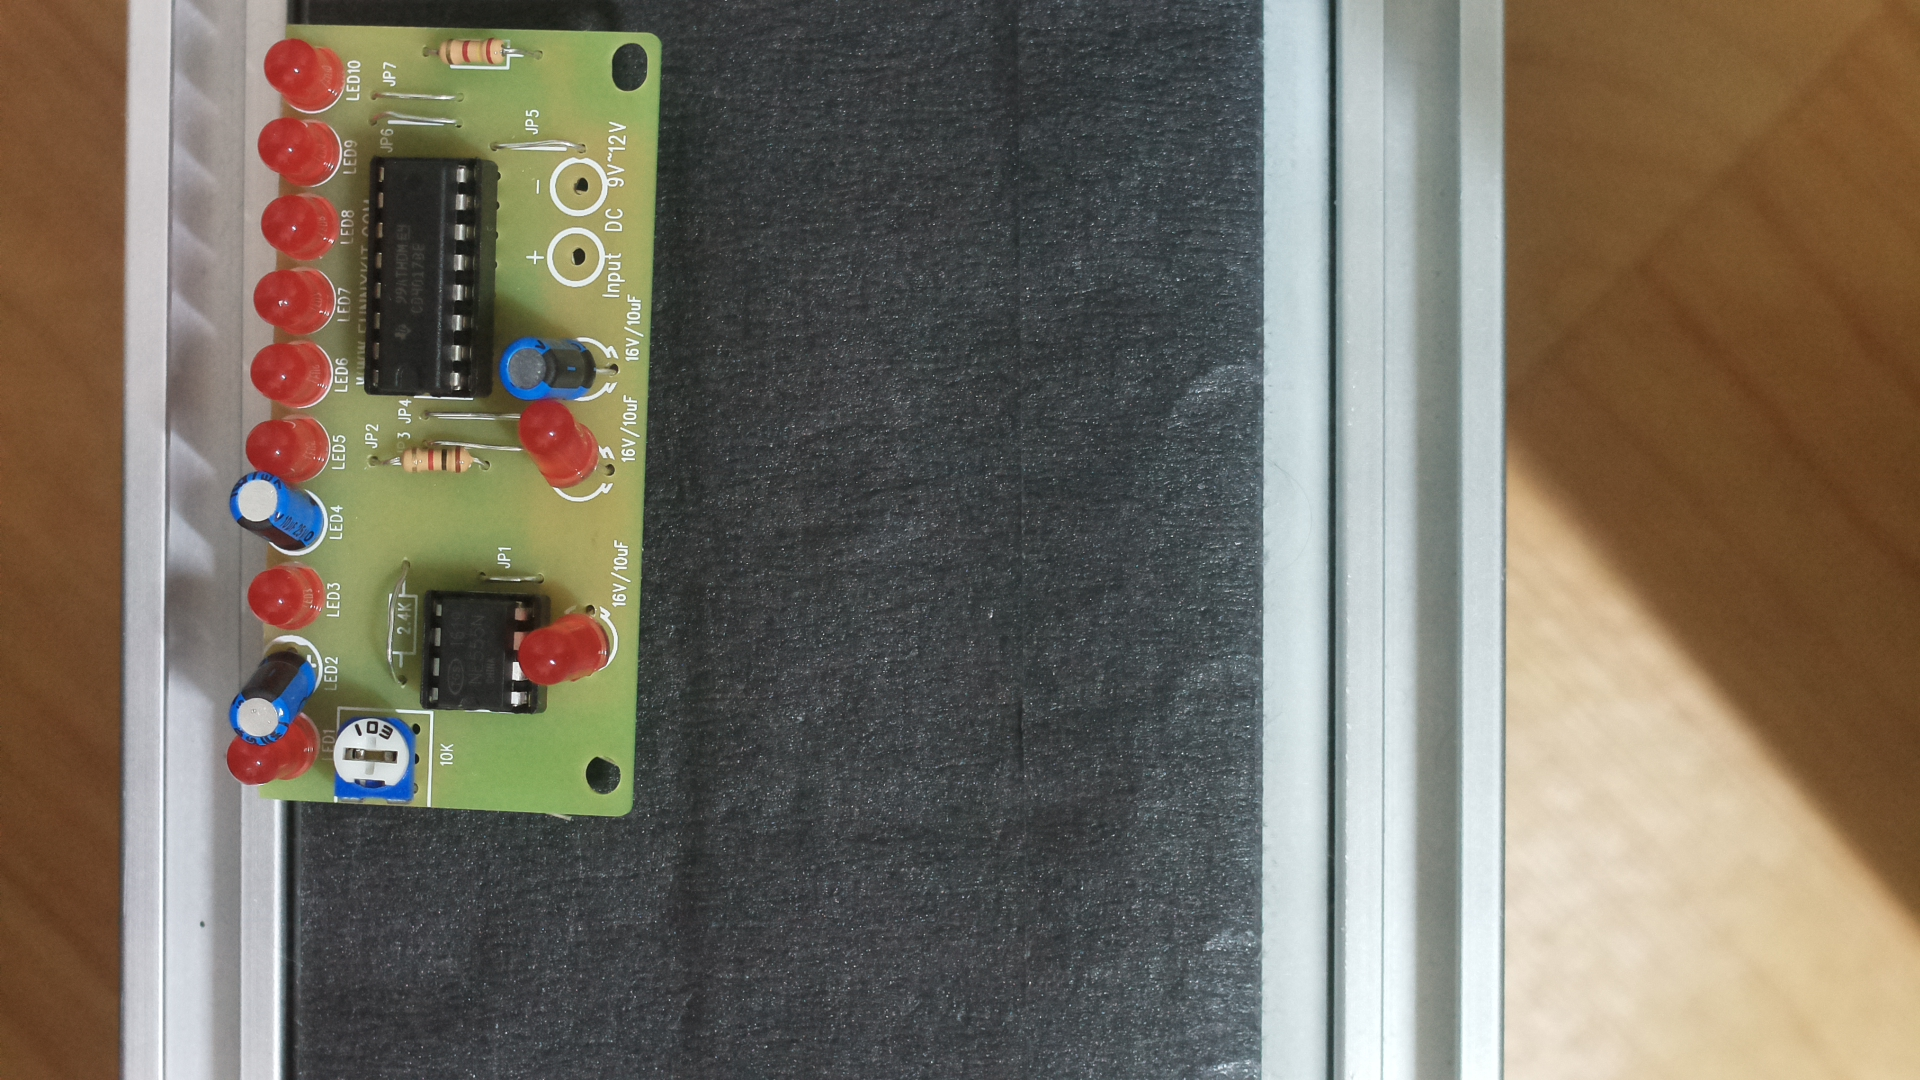B_Misordered: (222, 13, 675, 820)
